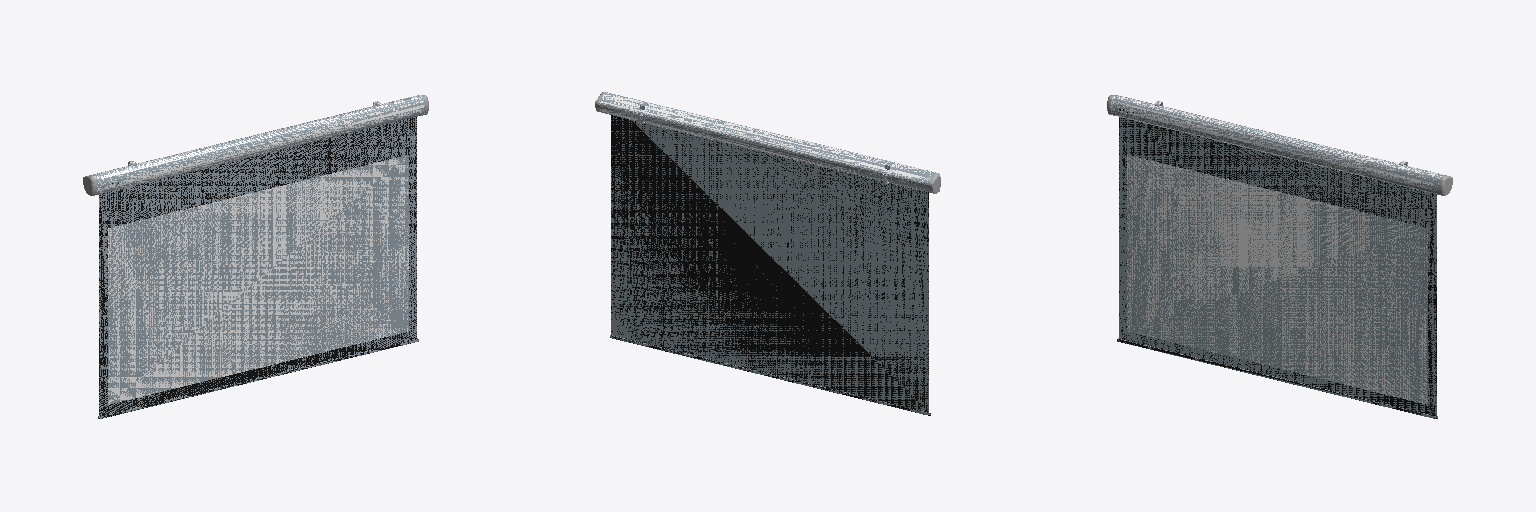
Rendered from projector-screen-model-2-stage.obj.
3 views of the same model, side by side, from view 1: azimuth 30°, elevation 25°; view 2: azimuth 150°, elevation 25°; view 3: azimuth 330°, elevation 25° (orthographic).
Visible parts, largest first — view 1: Component_2, _31Obj, Component_1, _57Obj; view 2: _31Obj, Component_1, _57Obj; view 3: Component_2, _31Obj, Component_1, _57Obj.
Boxes of the visible parts, x1=… form: Component_2: x1=108, y1=155, x2=408, y2=404; _31Obj: x1=99, y1=117, x2=416, y2=415; Component_1: x1=93, y1=95, x2=425, y2=194; _57Obj: x1=98, y1=338, x2=418, y2=418; _31Obj: x1=611, y1=115, x2=928, y2=412; Component_1: x1=599, y1=92, x2=934, y2=192; _57Obj: x1=610, y1=335, x2=930, y2=415; Component_2: x1=1127, y1=155, x2=1427, y2=404; _31Obj: x1=1119, y1=117, x2=1436, y2=415; Component_1: x1=1110, y1=95, x2=1442, y2=194; _57Obj: x1=1117, y1=338, x2=1437, y2=418.
Bounding box in the file's own units: 48.51 × 33.69 × 2.62.